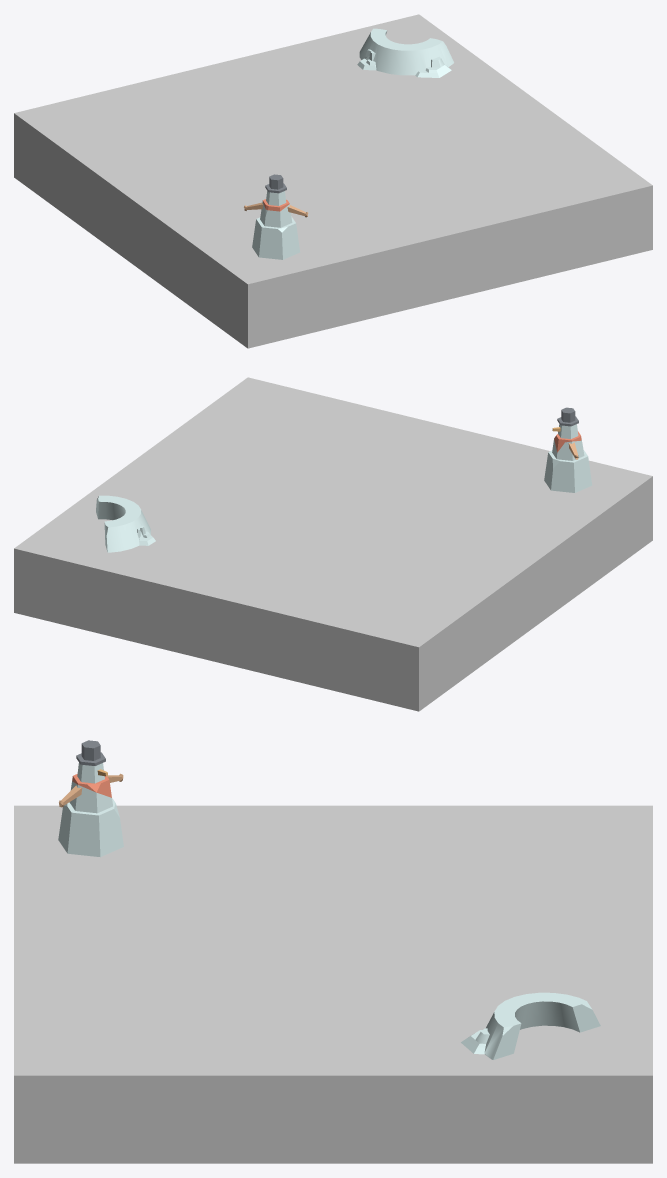
File: snow.glb
3 views of the same model, one above another, from view 1: azimuth 30°, elevation 25°; view 2: azimuth 150°, elevation 25°; view 3: azimuth 270°, elevation 25° (orthographic). The views are drawn at different scales.
Visible parts, largest first — view 1: Mesh1 Group1 Model.240; view 2: Mesh1 Group1 Model.240; view 3: Mesh1 Group1 Model.240.
Boxes of the visible parts, x1,y1,x2,y2 form: Mesh1 Group1 Model.240: (14, 14, 652, 348); Mesh1 Group1 Model.240: (14, 377, 652, 711); Mesh1 Group1 Model.240: (14, 740, 652, 1163).
Bounding box in the file's own units: 12 × 3.87 × 12.
